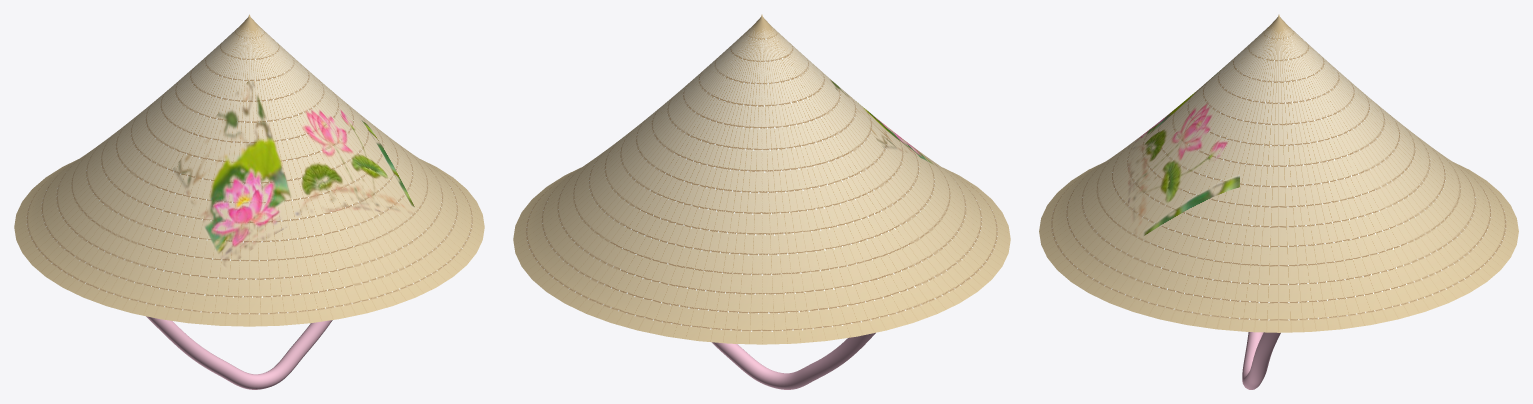
Rendered from non_la_theu_sen_v3.glb.
The picture shows the model from 3 angles, left to right: view 1: azimuth 30°, elevation 25°; view 2: azimuth 150°, elevation 25°; view 3: azimuth 270°, elevation 25°; orthographic projection. The views are drawn at different scales.
Visible parts, largest first — view 1: Non_La_Theu_Sen_V3, Quai_Lua_Hong; view 2: Non_La_Theu_Sen_V3, Quai_Lua_Hong; view 3: Non_La_Theu_Sen_V3, Quai_Lua_Hong.
Boxes of the visible parts, bbox=[...] form: Non_La_Theu_Sen_V3: bbox=[14, 14, 484, 326]; Quai_Lua_Hong: bbox=[146, 316, 332, 389]; Non_La_Theu_Sen_V3: bbox=[513, 14, 1010, 344]; Quai_Lua_Hong: bbox=[712, 332, 875, 389]; Non_La_Theu_Sen_V3: bbox=[1039, 14, 1518, 332]; Quai_Lua_Hong: bbox=[1242, 332, 1280, 389].
Bounding box in the file's own units: 0.416 × 0.3548 × 0.416.
Materials: 2 (1 with a texture image).
